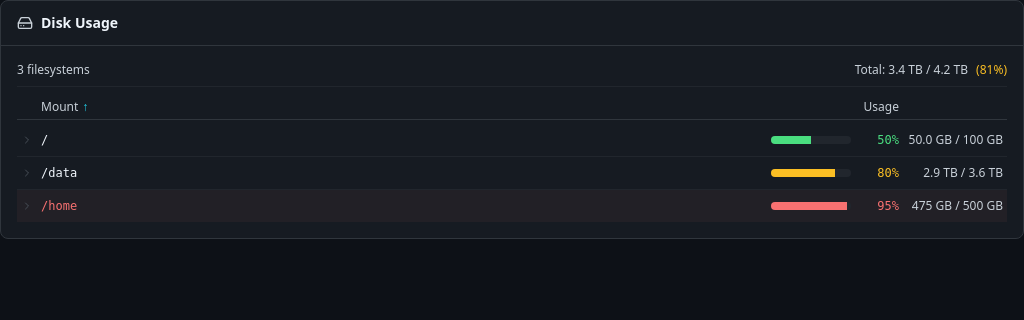
Test: DiskWidget › Expandable details (US0168 AC5) › collapses details when clicked again
Click the button with test id "expand-/" at coordinates (811, 140), box [17, 124, 1007, 156]
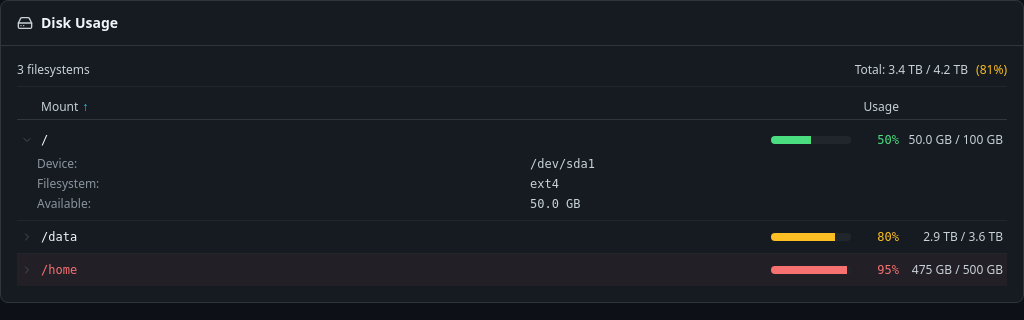
Now the element with test id "details-/" is shown, box [37, 155, 595, 212]
Click the button with test id "expand-/" at coordinates (811, 140), box [17, 124, 1007, 156]
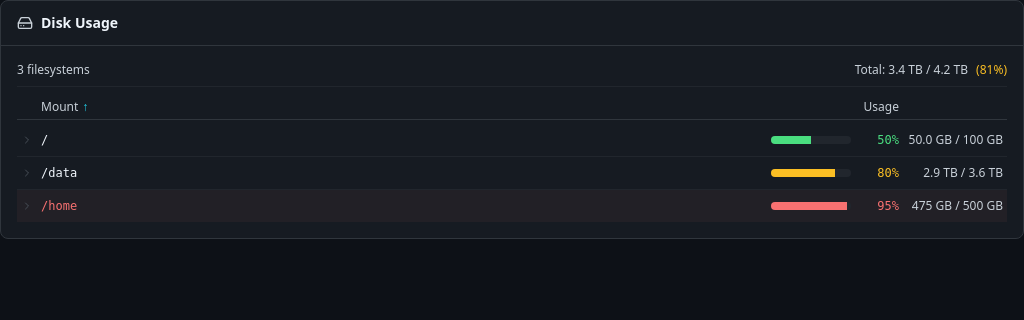
Now the element with test id "details-/" is gone
